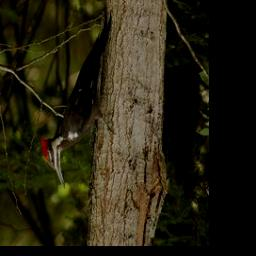Woodpecker: (40, 9, 120, 190)
